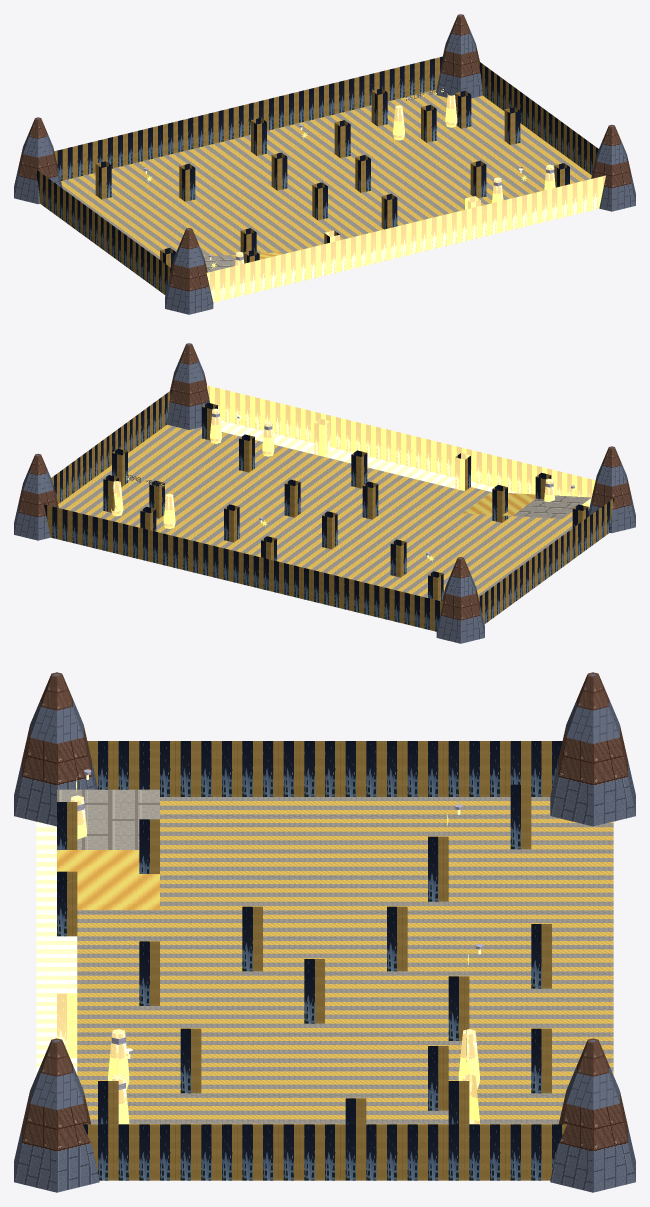
Rendered from level.gltf.
The picture shows the model from 3 angles, top to bottom: view 1: azimuth 30°, elevation 25°; view 2: azimuth 150°, elevation 25°; view 3: azimuth 270°, elevation 25°; orthographic projection. The views are drawn at different scales.
Parts seen in each view (by area): view 1: SCENE_GRID, PROP_FINALE_3; view 2: SCENE_GRID, PROP_FINALE_3; view 3: SCENE_GRID, PROP_FINALE_3.
Boxes of the visible parts, bbox=[...] form: SCENE_GRID: bbox=[35, 56, 605, 302]; PROP_FINALE_3: bbox=[14, 14, 635, 314]; SCENE_GRID: bbox=[44, 385, 614, 631]; PROP_FINALE_3: bbox=[14, 343, 635, 643]; SCENE_GRID: bbox=[36, 741, 613, 1180]; PROP_FINALE_3: bbox=[14, 672, 635, 1192].
Size of what is drawn, in the model's own units: 46.8 by 7 by 30.16.
2 materials, 2 textured.
